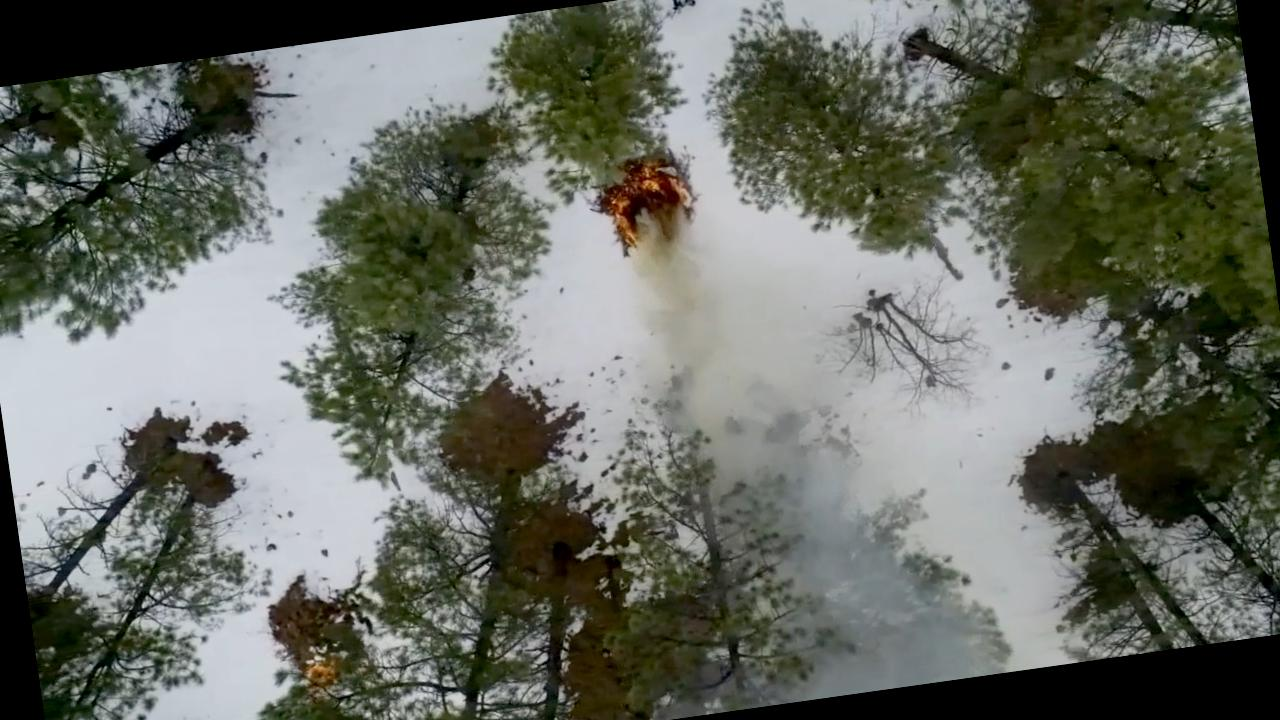fire: (591, 154, 699, 266)
smoke: (742, 514, 1002, 706), (686, 386, 861, 548)
